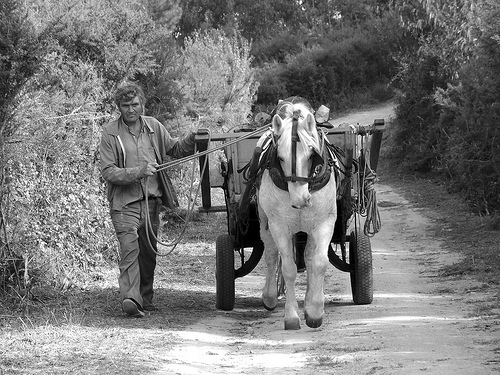horse: (241, 98, 342, 332)
